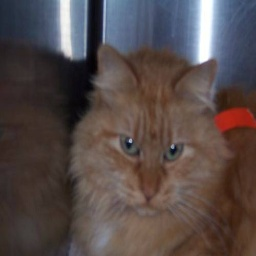cat: (70, 46, 255, 253)
